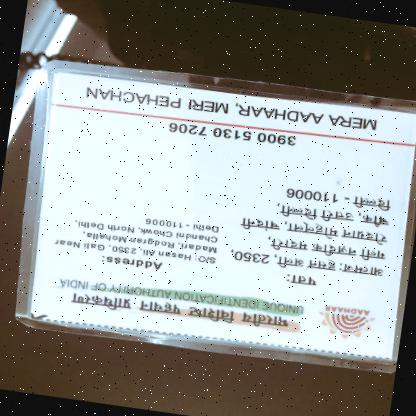aadhaar_card: (14, 63, 415, 376)
